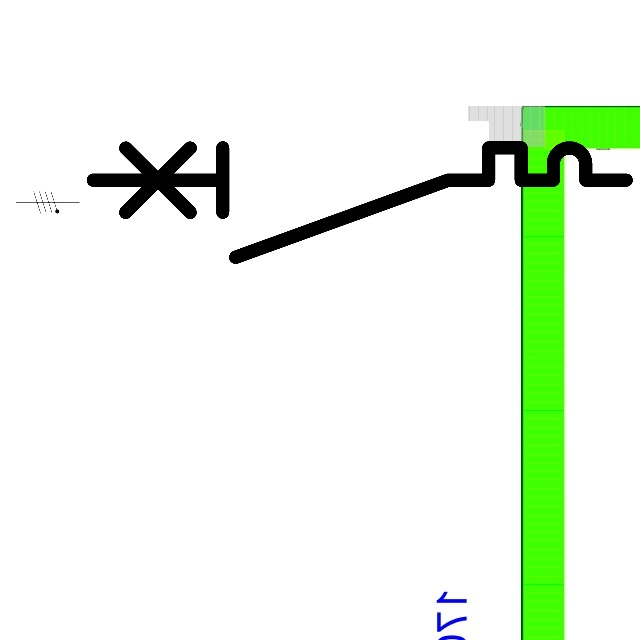interruptor_termomagnetico: (79, 134, 640, 271)
